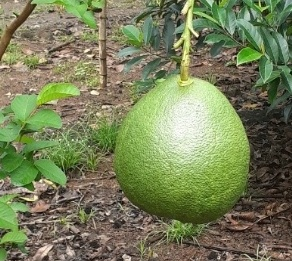Buoi: (91, 68, 259, 225)
